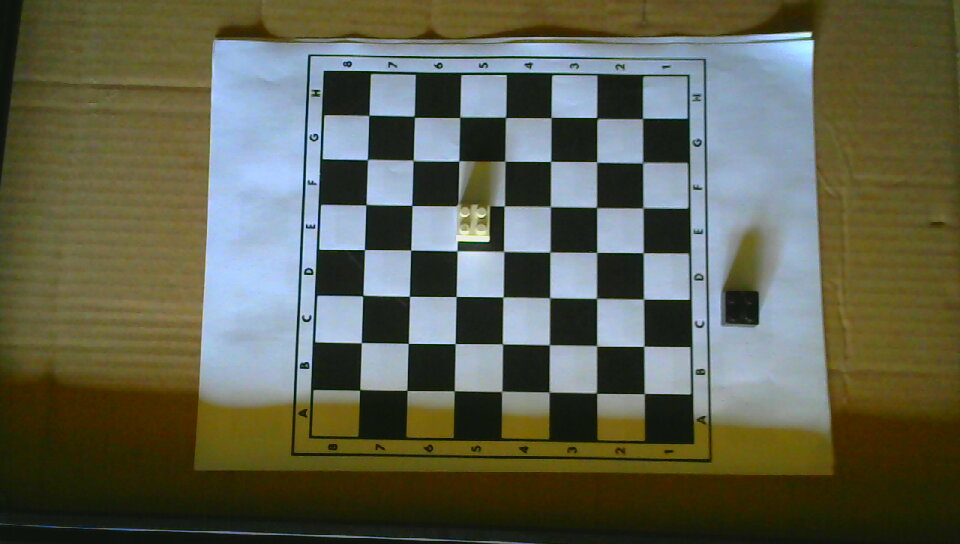bp: (719, 289, 760, 327)
wp: (455, 201, 491, 242)
